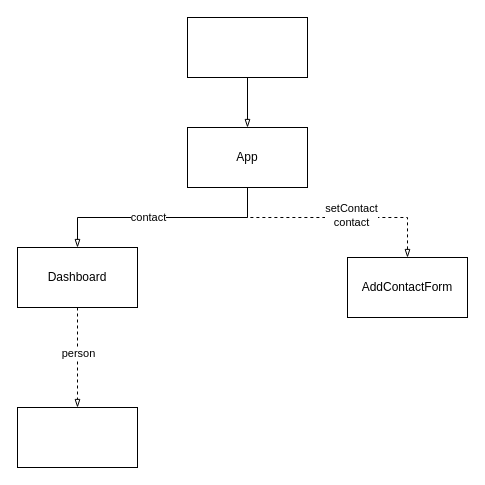
This 485x485 diagram has some shape labels left out. The box of each missing label's shape, as (x1, y1, x2, y2) in pixels:
Main: (186, 16, 308, 78)
RenderProfile: (16, 406, 138, 468)
